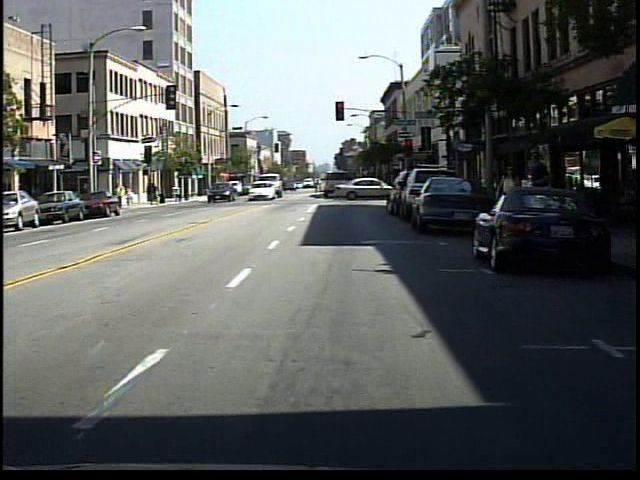person: (518, 145, 552, 250), (496, 155, 522, 246), (112, 180, 127, 204), (127, 184, 140, 211)
